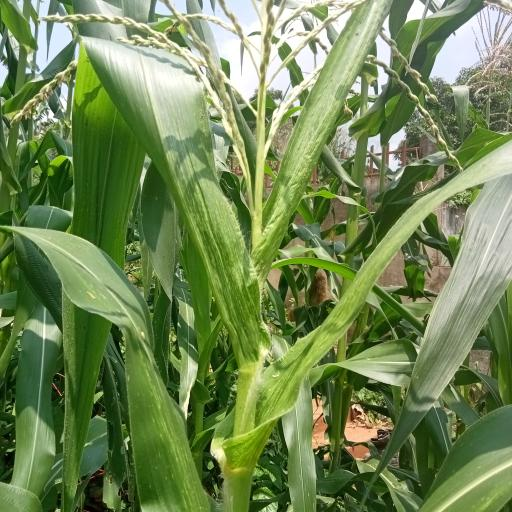Corn_Streak: (0, 218, 230, 512), (56, 41, 248, 340)
